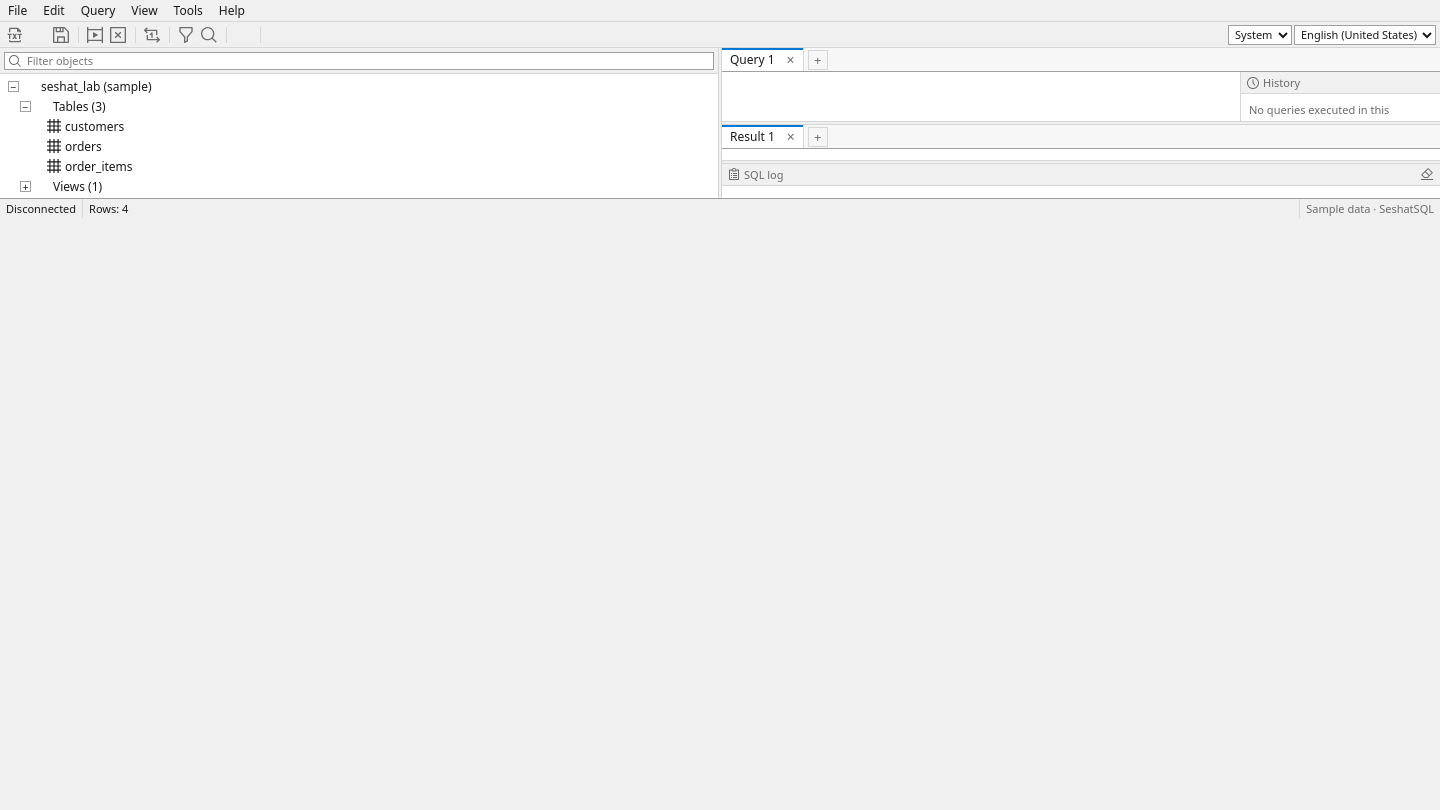
it: S05Lab › opens the connections dialog from the Tools menu
The width and height of the screenshot is (1440, 810).
Click the menu item with class "menubar__button" showing "Tools" at (188, 10), box [166,0,211,21]
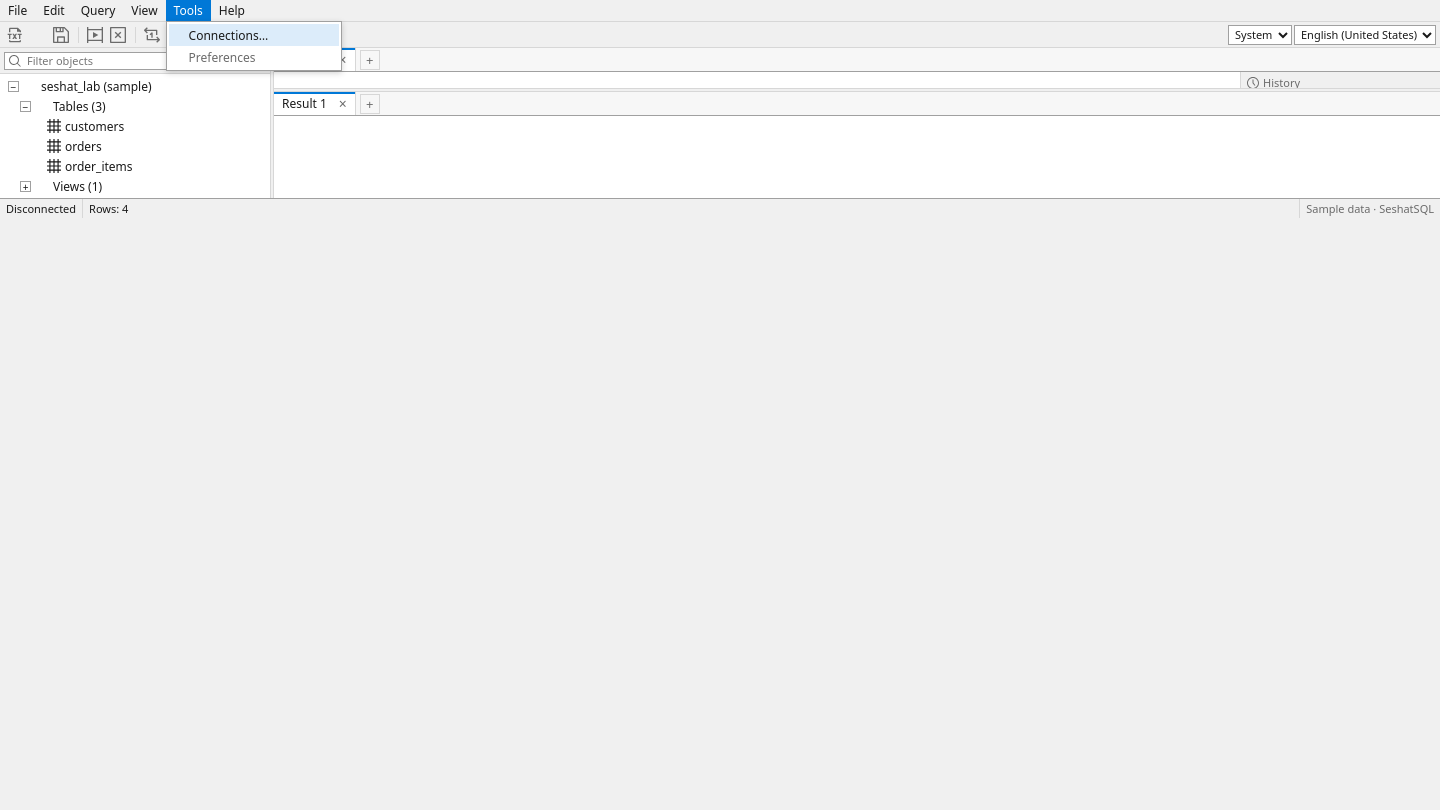
Click the menu item with class "menubar__item" showing "Connections…" at (254, 35), box [169,24,339,46]
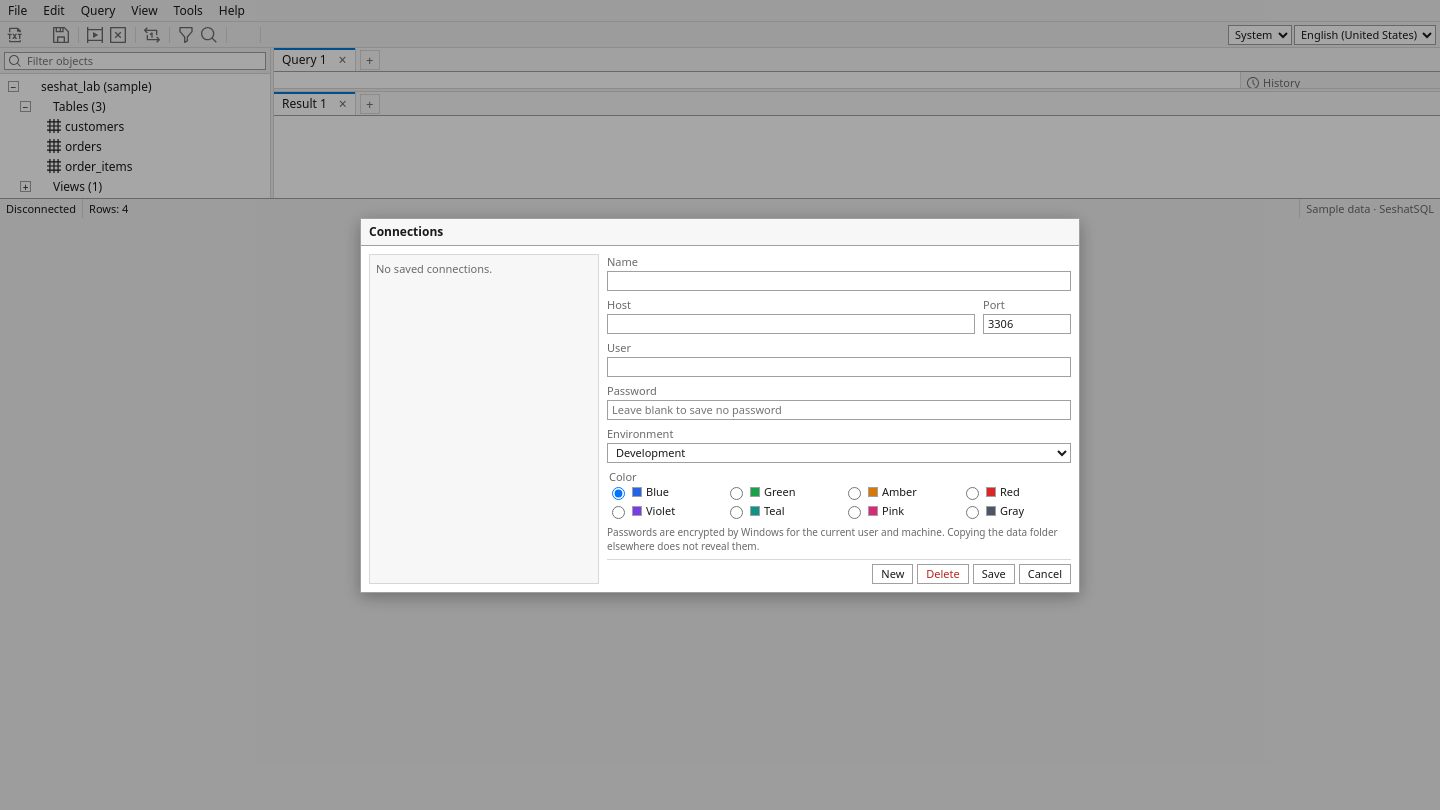
expect the dialog with class "dialog__panel" shows "Connections": met, box [369,222,443,240]
Press Escape in the dialog with class "dialog__panel", box [360,218,1080,592]
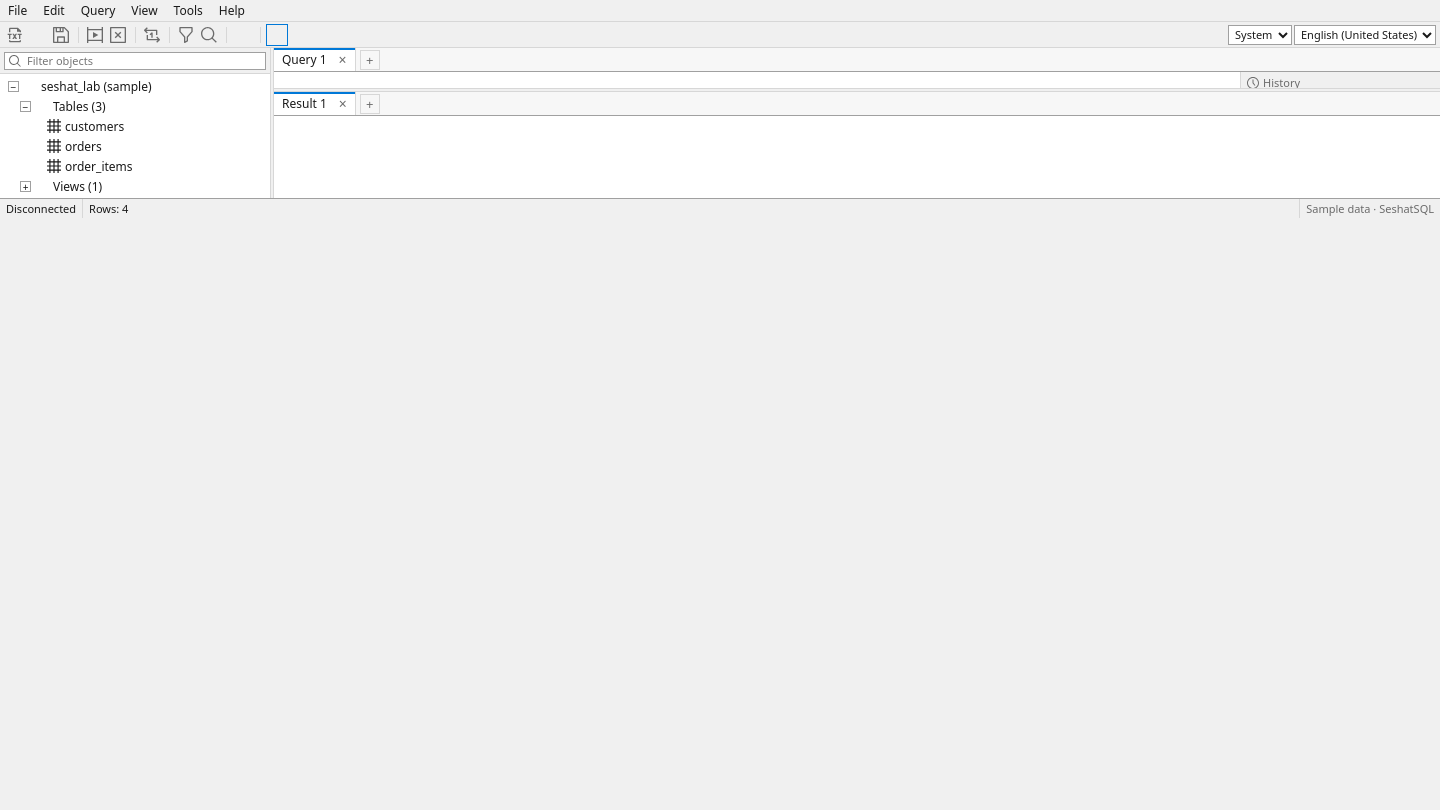
expect the text "Disconnected" is shown: met, box [0,199,83,218]
expect the dialog with class "dialog__panel" is gone: met
